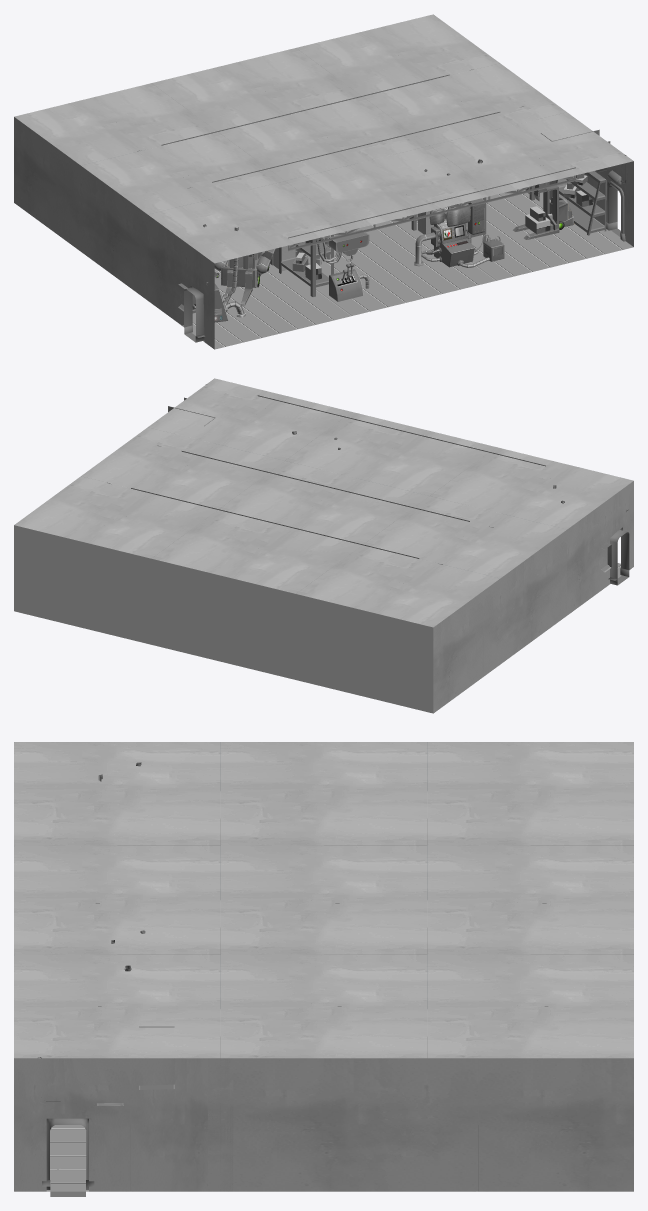
Rendered from MHS_Storage_L3_R3_optimized.fbx.
3 renders of one model, top to bottom at view 1: azimuth 30°, elevation 25°; view 2: azimuth 150°, elevation 25°; view 3: azimuth 270°, elevation 25°, orthographic. The views are drawn at different scales.
Visible parts, largest first — view 1: lightmap0, lightmap-1, MHS_Storage_ani_01 1; view 2: lightmap0, lightmap-1; view 3: lightmap0.
Boxes of the visible parts, box(x1,y1,x2,y2) form: lightmap0: box(14, 14, 633, 349); lightmap-1: box(184, 185, 620, 342); MHS_Storage_ani_01 1: box(317, 229, 369, 263); lightmap0: box(14, 378, 633, 713); lightmap-1: box(610, 530, 629, 585); lightmap0: box(14, 742, 633, 1191).
Bounding box in the file's own units: 30.91 × 6.6 × 24.77.
